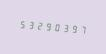five: (17, 16, 25, 31)
nine: (71, 21, 79, 36), (44, 19, 52, 33)
seven: (80, 22, 88, 37)
three: (26, 17, 34, 32), (62, 20, 70, 35)
two: (35, 18, 43, 33)
zero: (53, 20, 61, 34)
